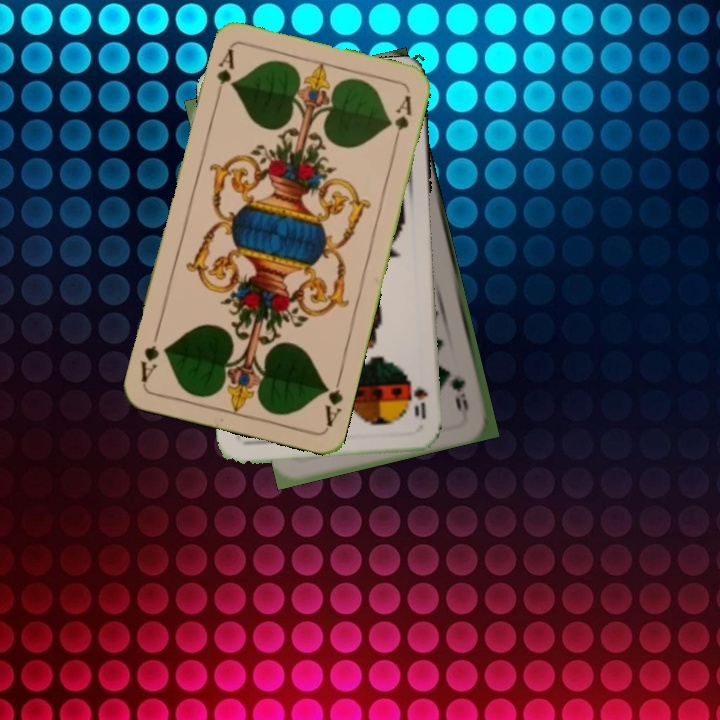G9: (449, 374, 471, 413)
GA: (320, 371, 346, 430), (212, 45, 237, 103)
SO: (406, 376, 431, 422)
